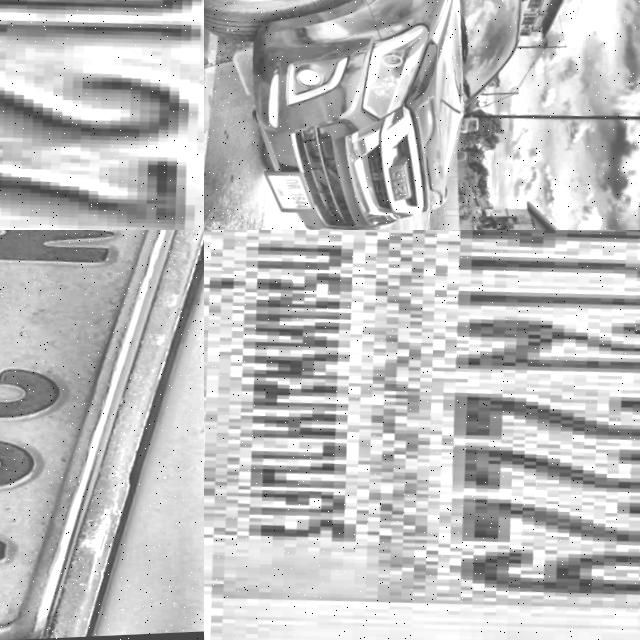license-plate: (204, 230, 640, 640), (0, 230, 204, 640), (0, 0, 204, 230), (257, 170, 316, 220)
